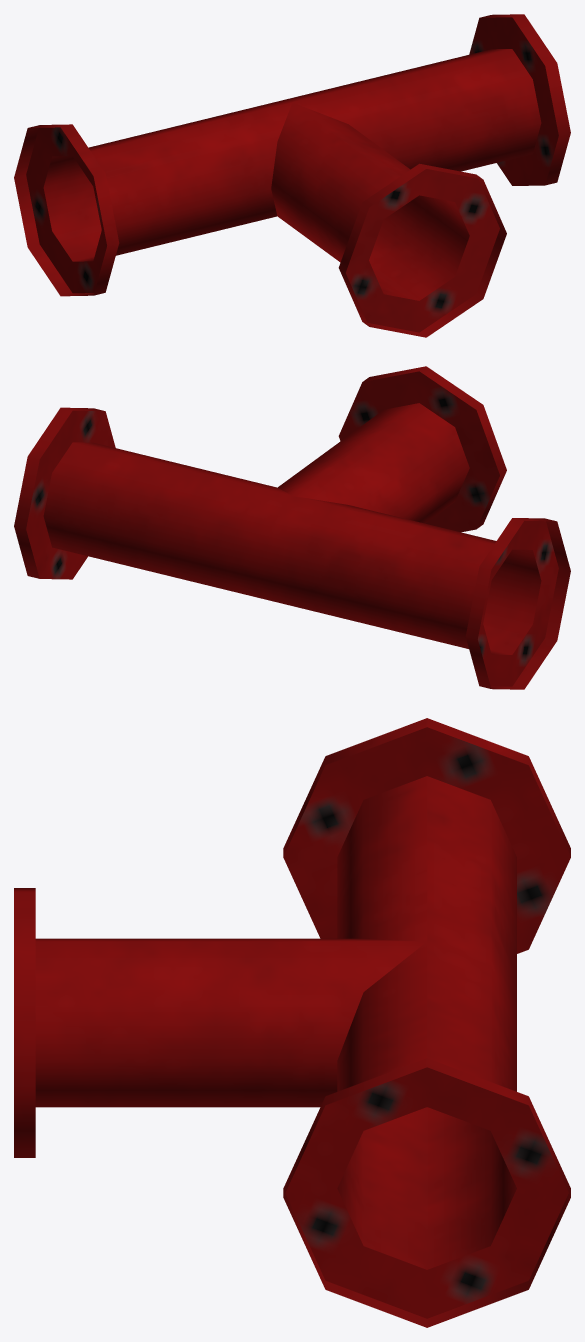
The model's file is PipeSmall_T.FBX.
3 renders of one model, top to bottom at view 1: azimuth 30°, elevation 25°; view 2: azimuth 150°, elevation 25°; view 3: azimuth 270°, elevation 25°, orthographic. The views are drawn at different scales.
Parts seen in each view (by area): view 1: PipeSmall_T; view 2: PipeSmall_T; view 3: PipeSmall_T.
Part boxes in pixels (x1,y1,x2,y2): PipeSmall_T: [14, 14, 570, 337]; PipeSmall_T: [14, 366, 570, 689]; PipeSmall_T: [14, 718, 570, 1327].
Bounding box in the file's own units: 9.05 × 3.15 × 6.1.
